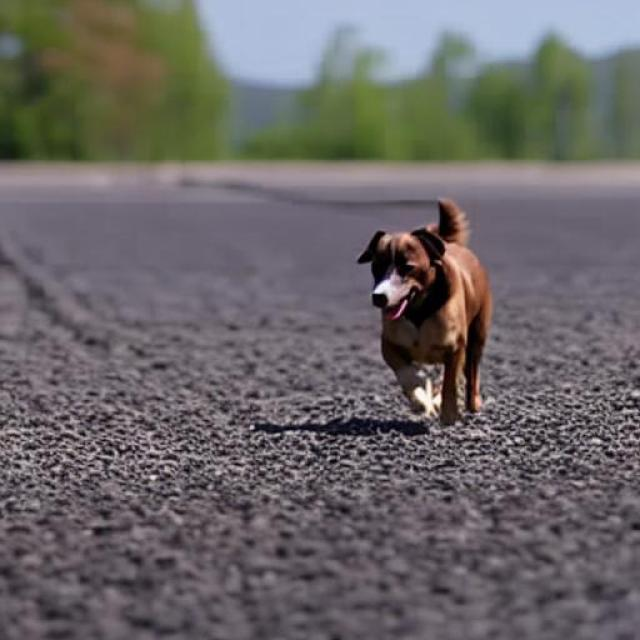Dog: (358, 198, 489, 429)
